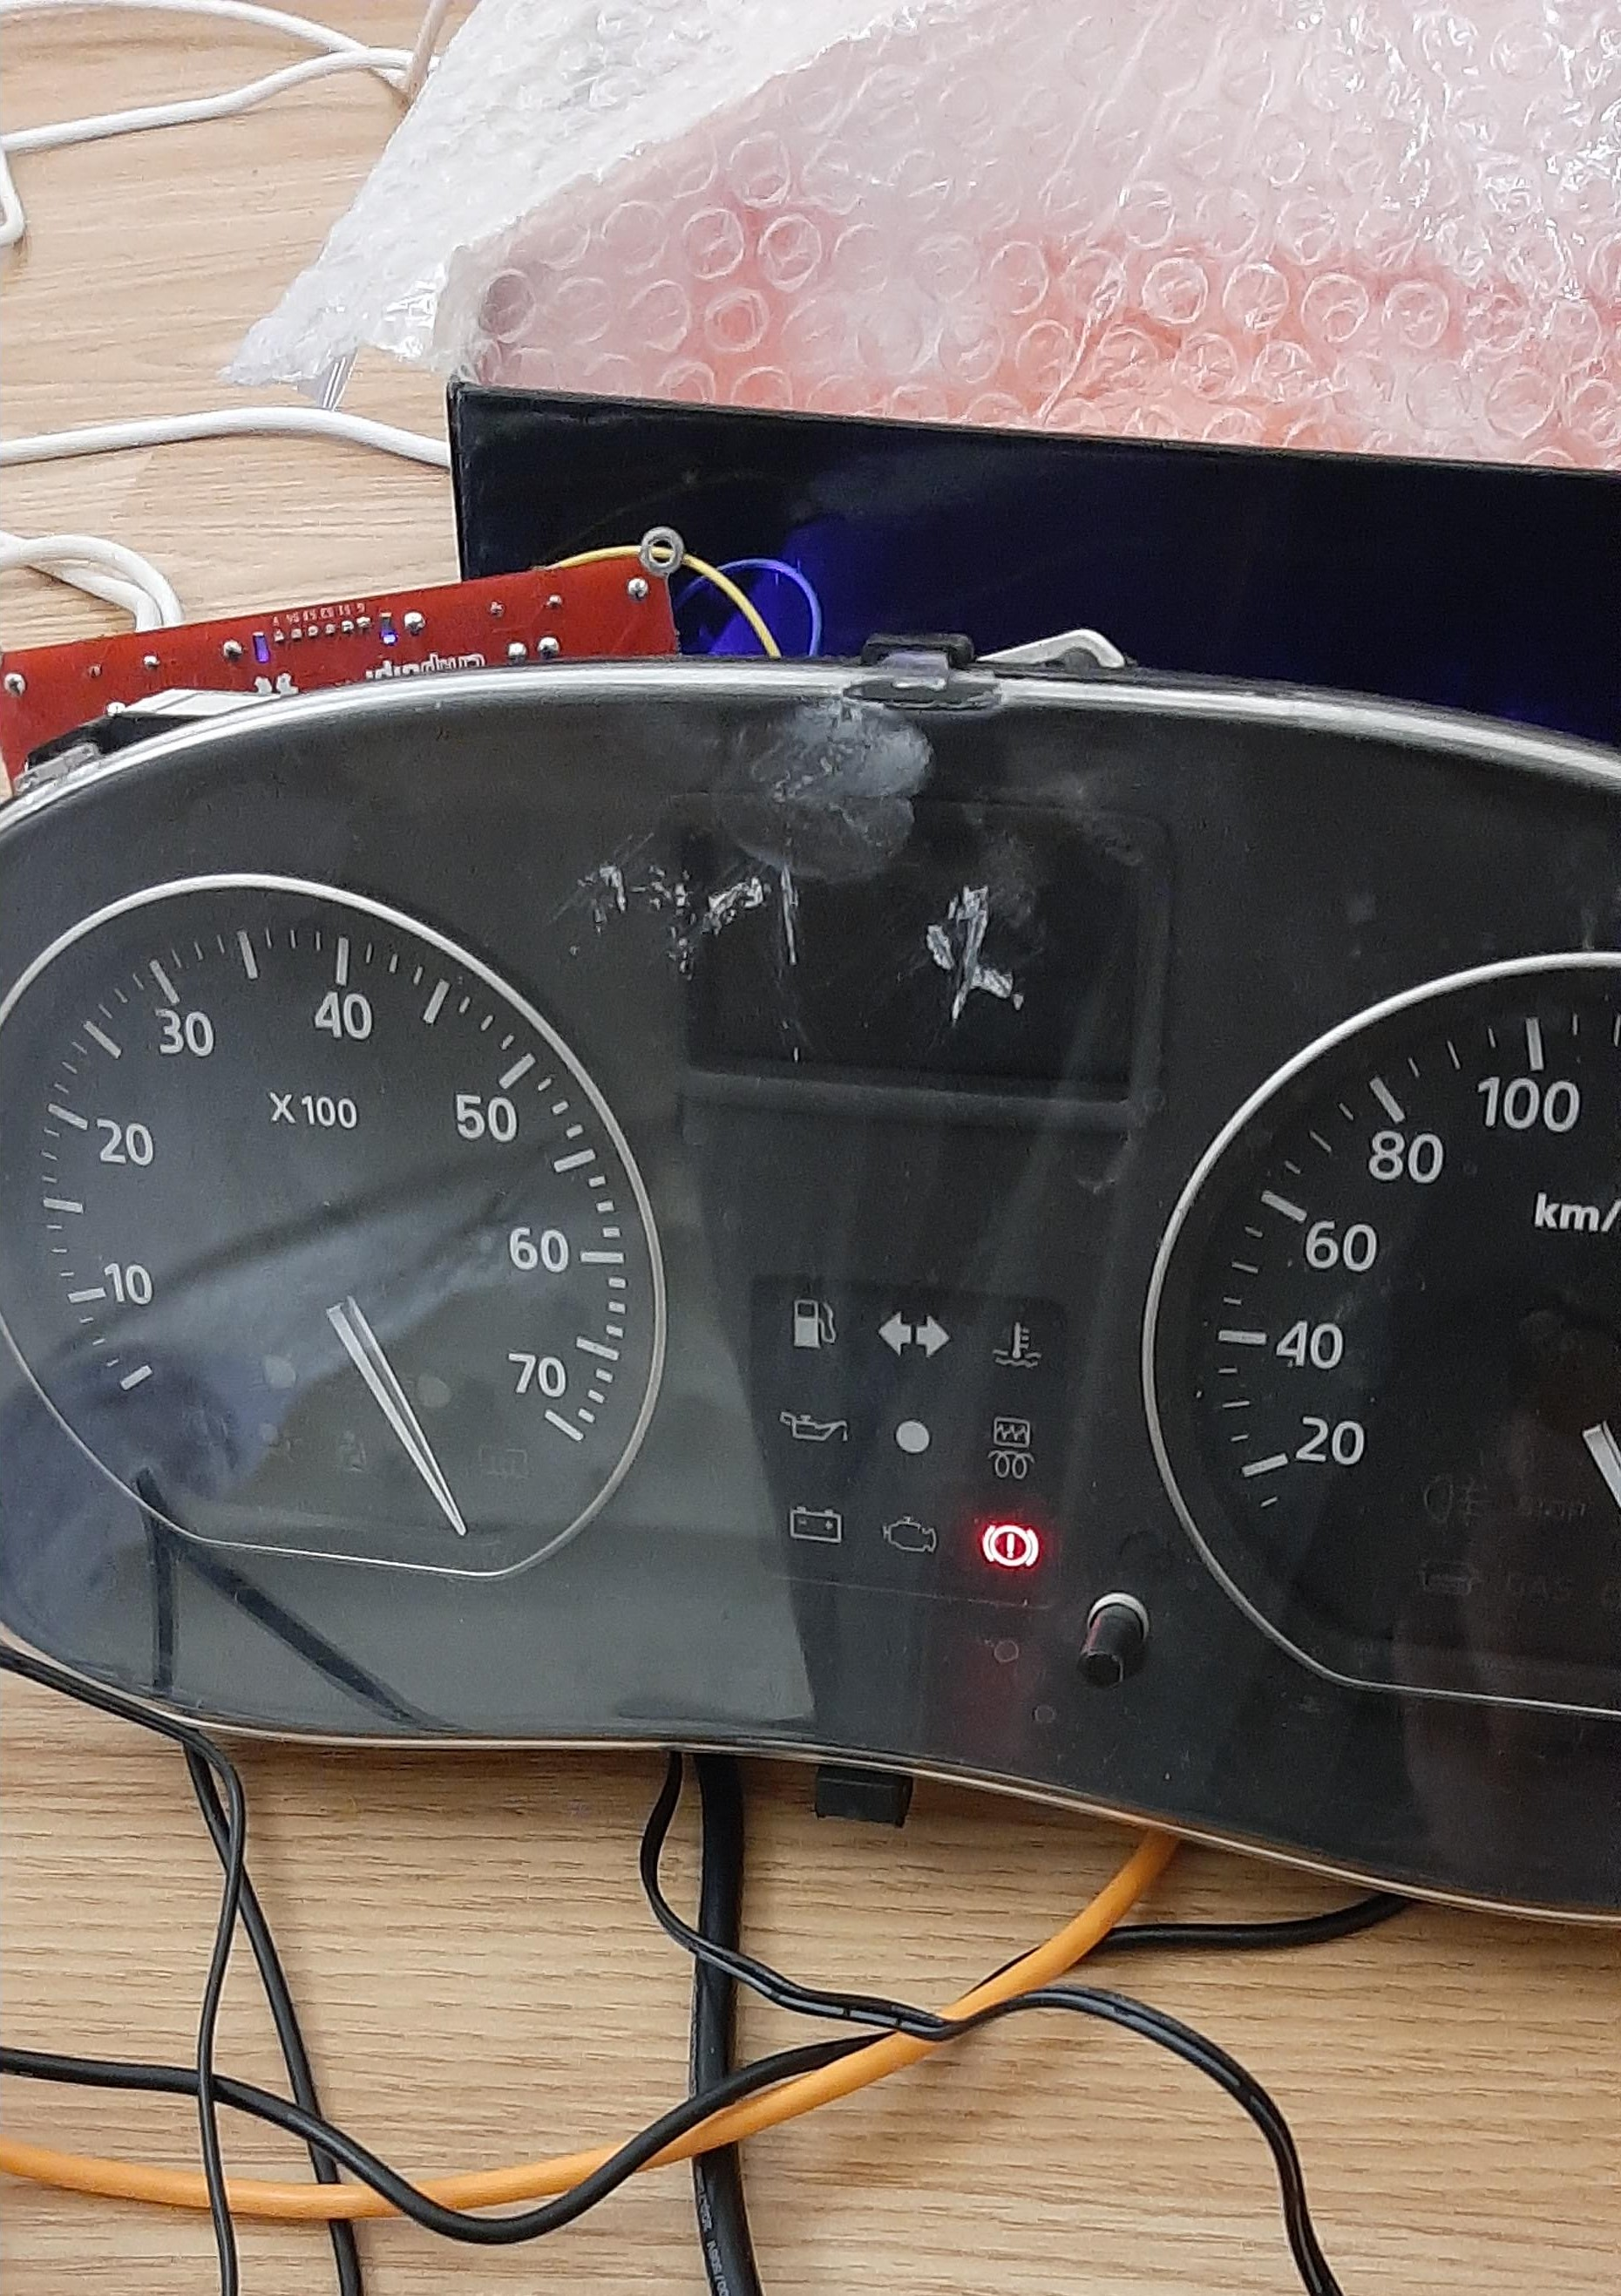brake25: (981, 1524, 1040, 1572)
